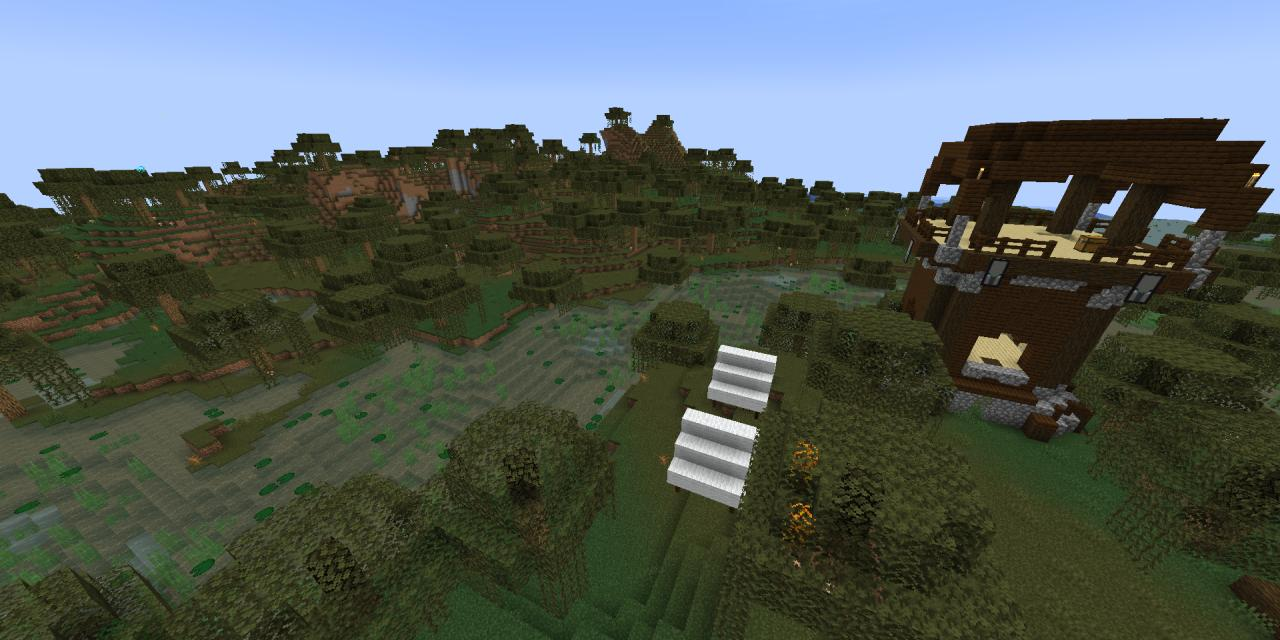pillager outpost: (880, 104, 1276, 446)
